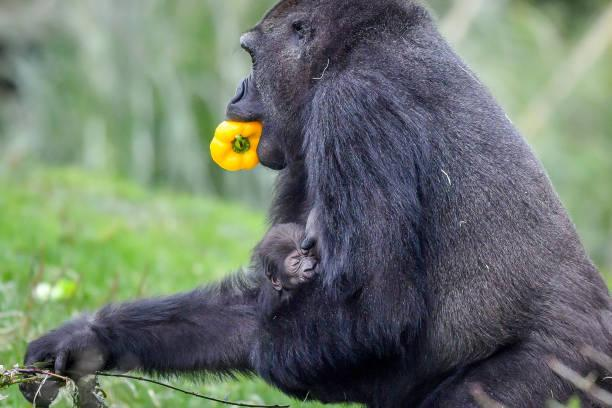gorille_Autres: (176, 0, 600, 408)
